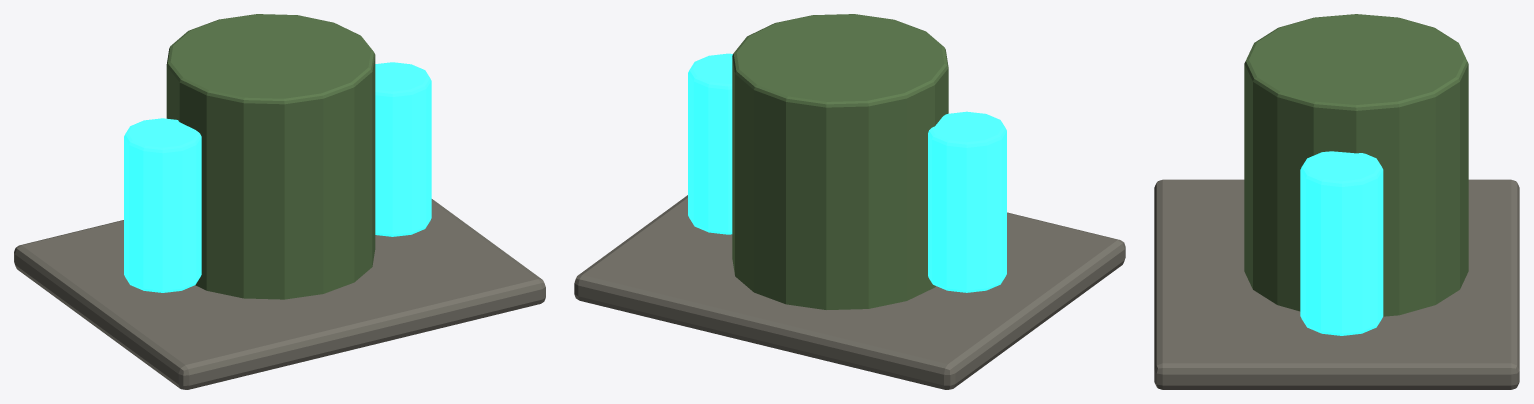
Rendered from human_power.glb.
The picture shows the model from 3 angles, left to right: view 1: azimuth 30°, elevation 25°; view 2: azimuth 150°, elevation 25°; view 3: azimuth 270°, elevation 25°; orthographic projection. The views are drawn at different scales.
Visible parts, largest first — view 1: Reactor, Foundation, EnergyCoil, EnergyCoil.001; view 2: Reactor, Foundation, EnergyCoil, EnergyCoil.001; view 3: Reactor, Foundation, EnergyCoil.001.
Boxes of the visible parts, box(x1,y1,x2,y2) form: Reactor: box(166, 14, 375, 299); Foundation: box(14, 199, 545, 389); EnergyCoil: box(124, 118, 201, 292); EnergyCoil.001: box(375, 62, 431, 236); Reactor: box(732, 14, 948, 309); Foundation: box(574, 195, 1125, 389); EnergyCoil: box(928, 111, 1006, 292); EnergyCoil.001: box(688, 53, 732, 234); Reactor: box(1244, 14, 1468, 316); Foundation: box(1154, 179, 1519, 389); EnergyCoil.001: box(1300, 151, 1383, 335).
Bounding box in the file's own units: 1.85 × 1.08 × 1.5.
